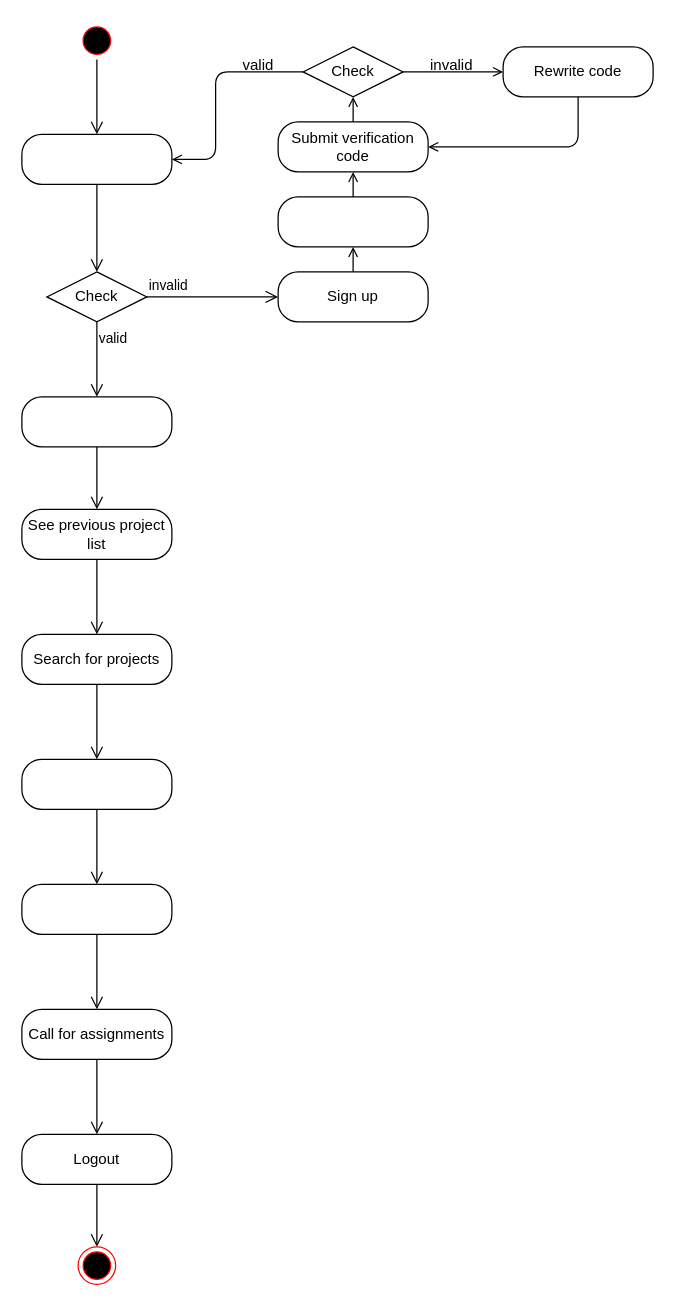
Some shapes in this 675 by 1306 pixel diagram are drawn without their labels. The centre of each missing label's shape, as x and y in pixels:
"Check email" goes at [352,221].
"Create classroom" goes at [96,908].
"Login" goes at [96,158].
"See students list" goes at [96,421].
"Take courses" goes at [96,783].
